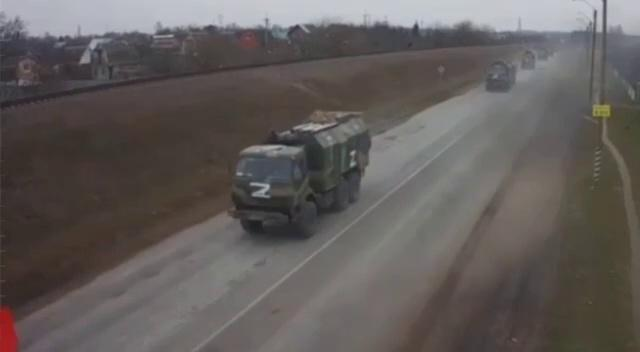truck: (226, 108, 372, 239), (484, 58, 516, 92), (520, 49, 538, 72), (536, 45, 548, 62)
